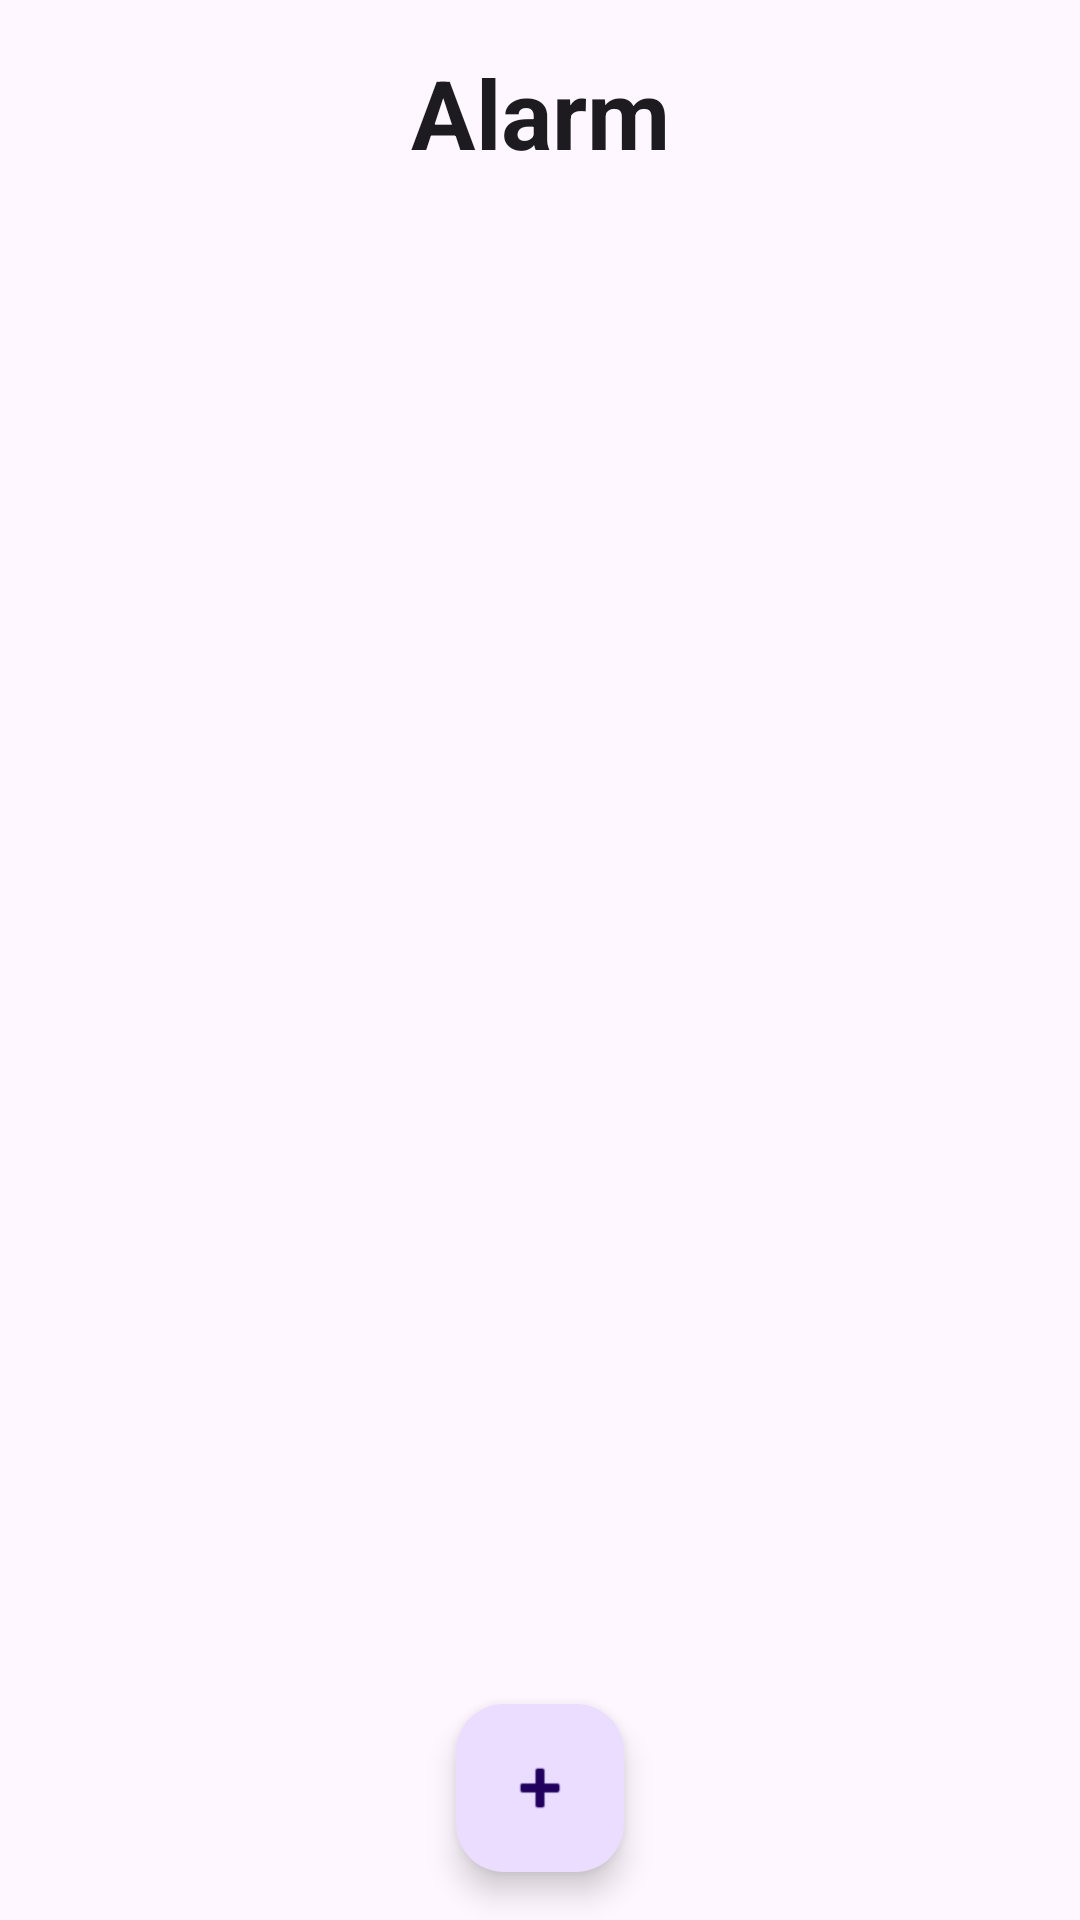

Named icons in this screenshot (1080x1920) and their bounding boxes, [x1, y1, x2, y2]:
Alarm hinzufügen: [456, 1704, 624, 1872]
